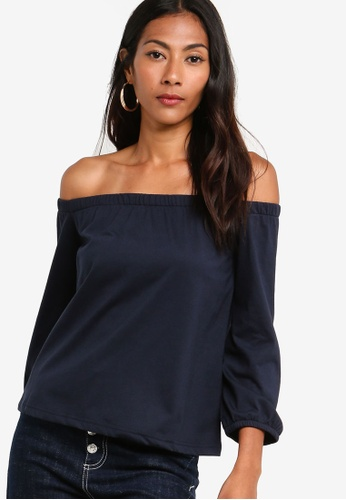S_suit: (5, 191, 297, 493)
